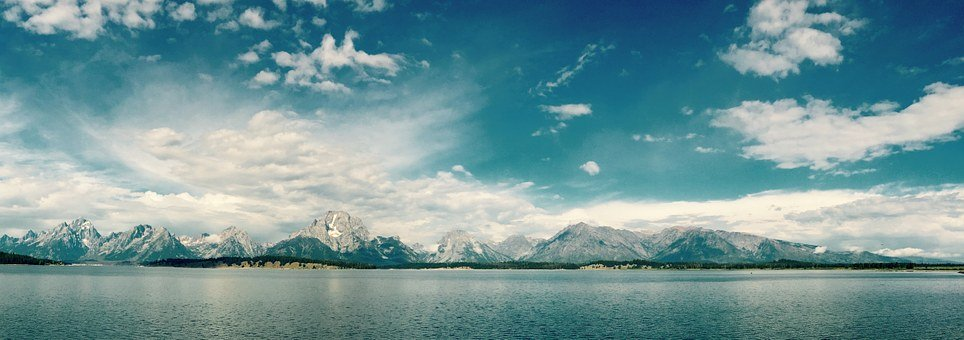mountain: (5, 209, 960, 273)
sea: (1, 262, 960, 338)
sky: (5, 3, 961, 218)
